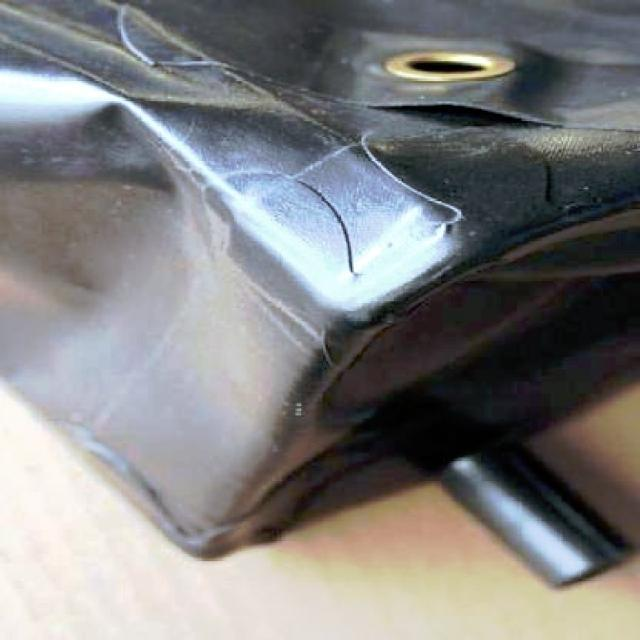crack: (272, 179, 381, 301)
